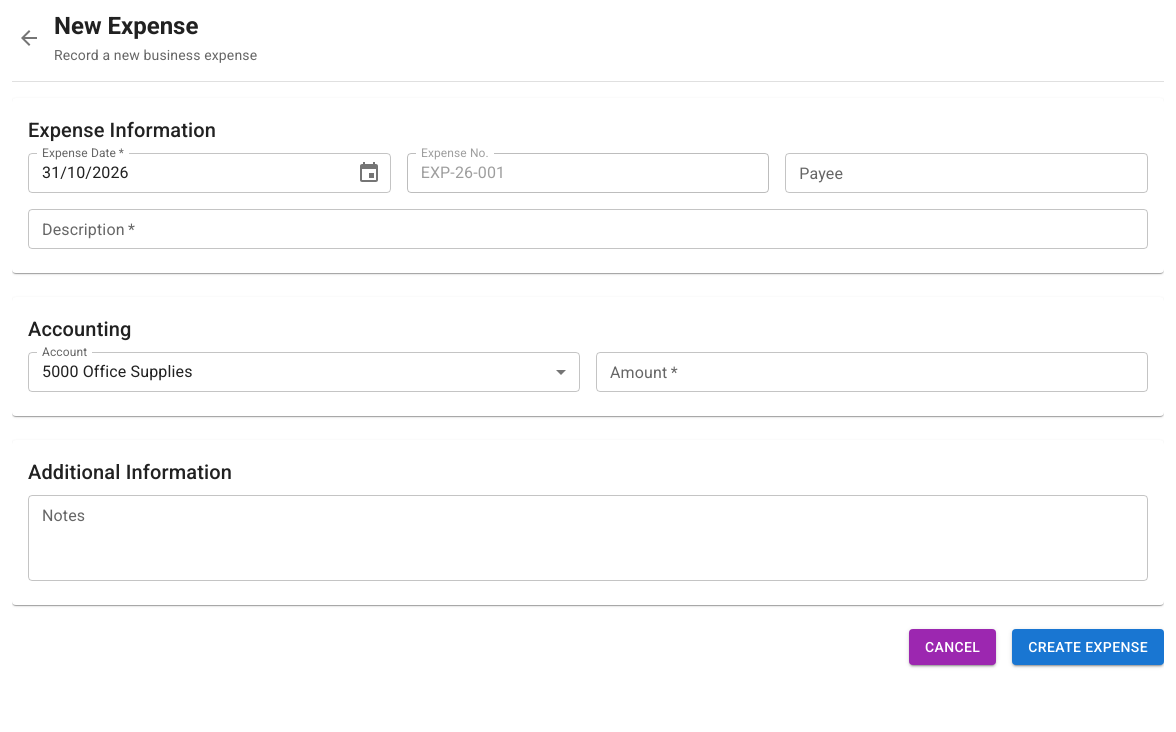
Scenario: ExpenseFormPage - Create mode › excludes by configured id, not by the 5100 code
The image size is (1176, 732).
Click the dropdown named "account": (117, 372) top-left (42, 362), bottom-right (193, 381)
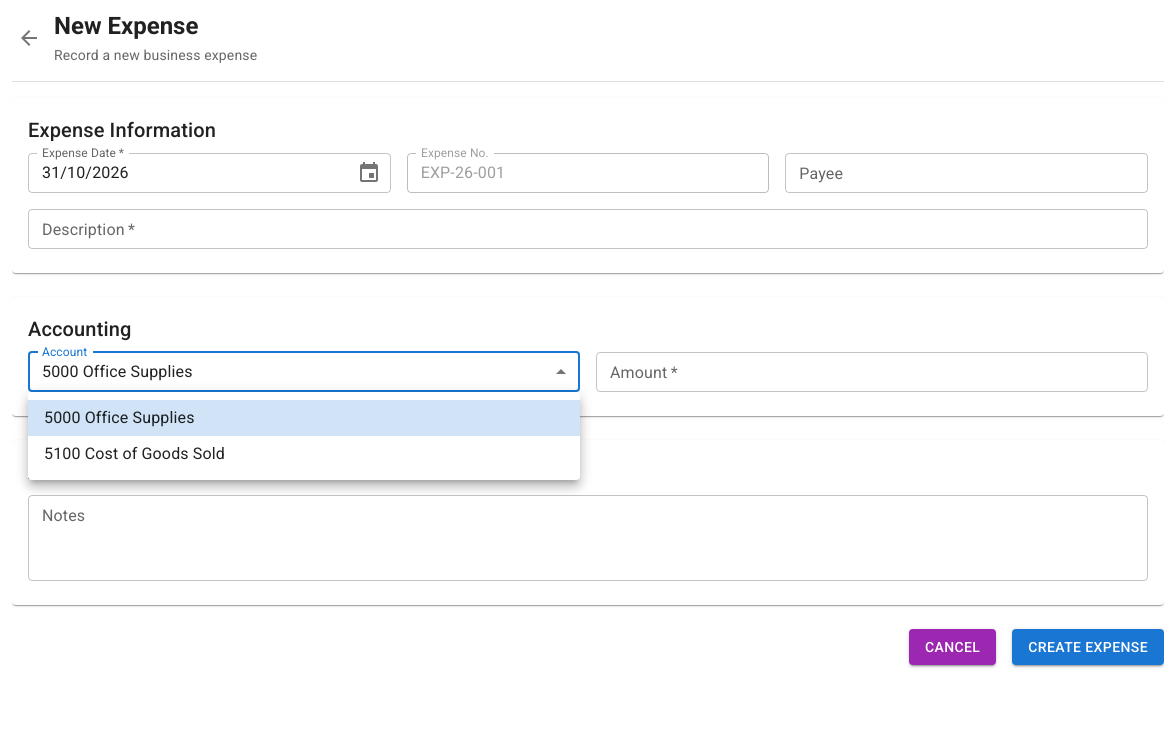
Check: the option "5100 Cost of Goods Sold" is shown, box top-left (44, 444), bottom-right (225, 463)
